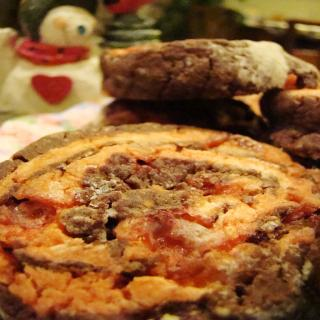Cookie: (0, 120, 320, 320), (101, 36, 320, 164)
